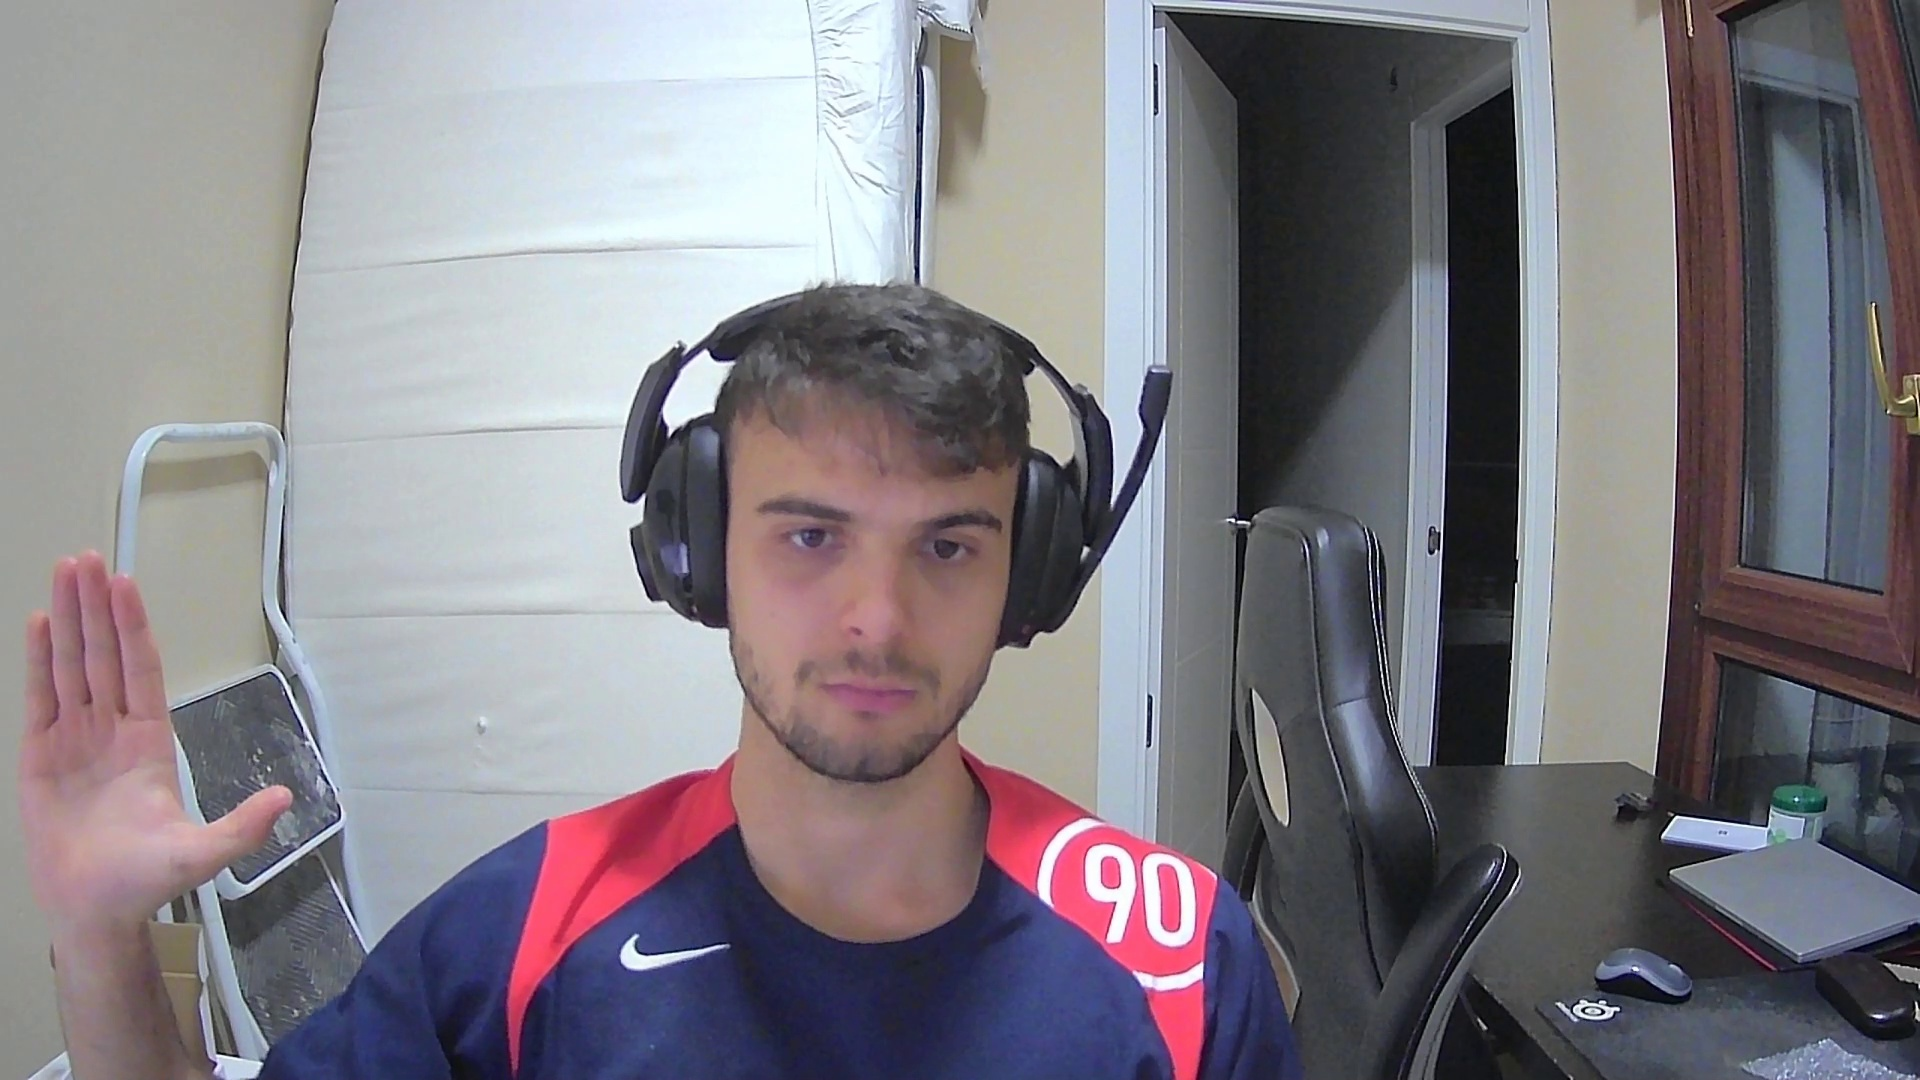Palm: (5, 545, 295, 948)
